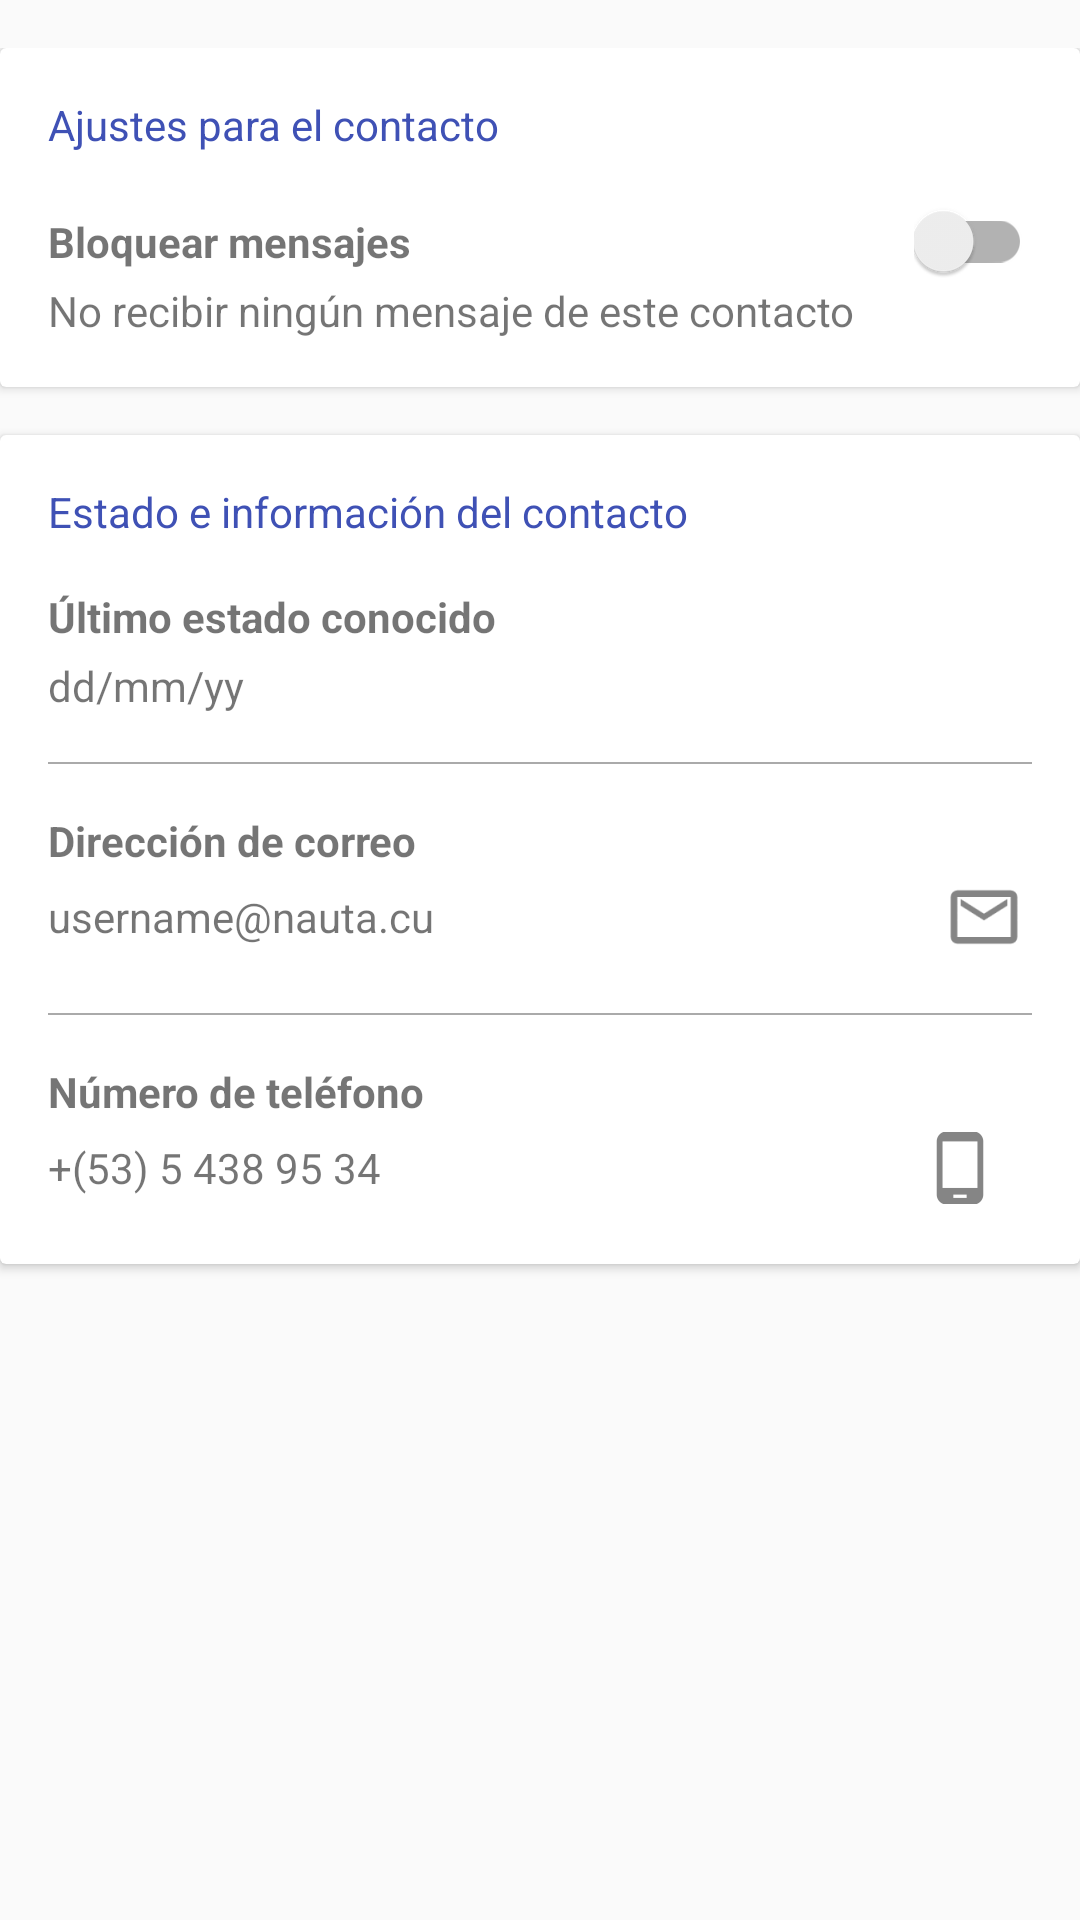

Point at icon controls on the screen. Image size 1080px×1920px, points as (x,y).
mail: (984,917)
mobile phone: (960,1168)
